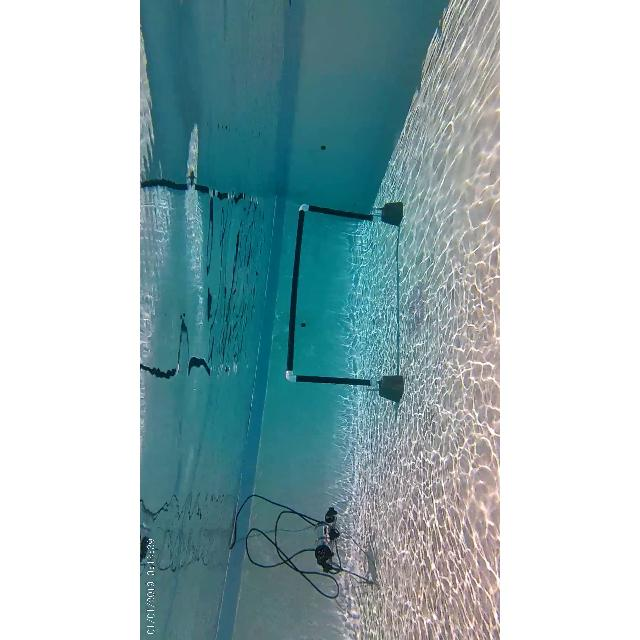prequal gate: (286, 205, 378, 388)
prequal gate leg l: (280, 362, 402, 403)
prequal gate leg r: (286, 193, 406, 233)
